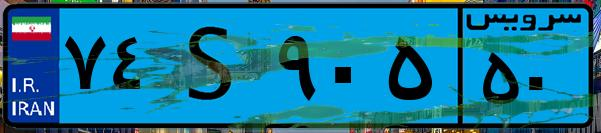0: (330, 28, 385, 110), (525, 38, 570, 115)
4: (110, 28, 158, 98)
5: (385, 28, 445, 110), (475, 38, 525, 113)
7: (57, 26, 110, 100)
9: (270, 28, 330, 110)
S: (158, 12, 270, 120)
